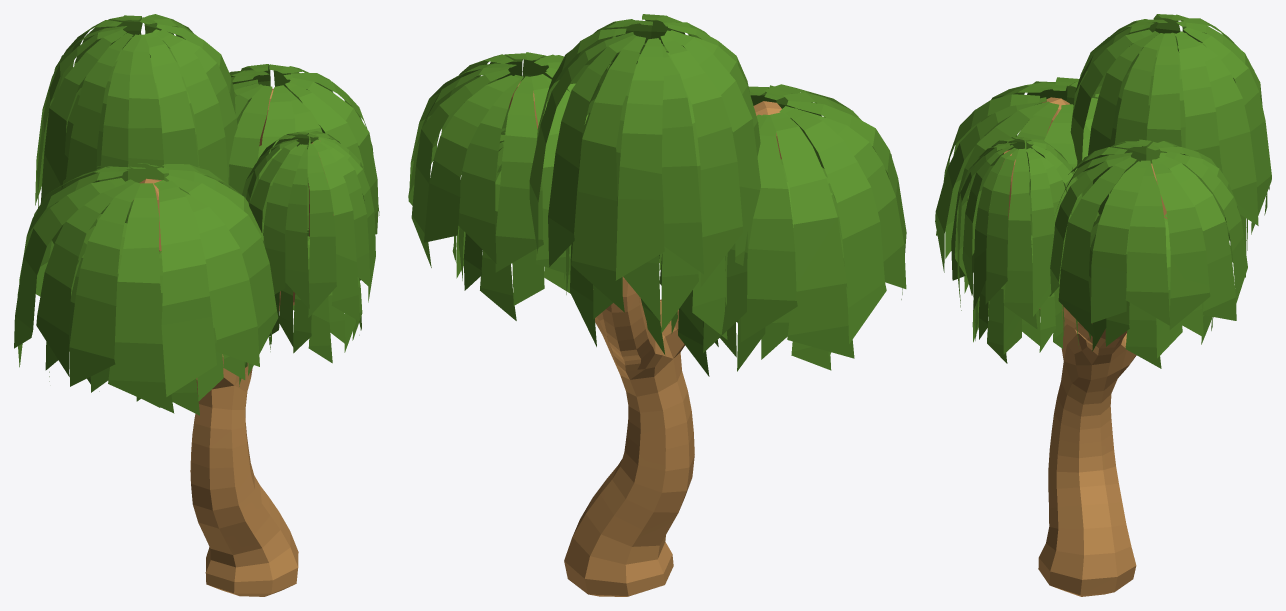
Rendered from besar1.fbx.
3 renders of one model, left to right at view 1: azimuth 30°, elevation 25°; view 2: azimuth 150°, elevation 25°; view 3: azimuth 270°, elevation 25°, orthographic. The views are drawn at different scales.
Visible parts, largest first — view 1: Object_12, Object_11; view 2: Object_12, Object_11; view 3: Object_12, Object_11.
Part boxes in pixels (x1=…): Object_12: x1=14, y1=14, x2=379, y2=415; Object_11: x1=133, y1=88, x2=333, y2=596; Object_12: x1=408, y1=14, x2=906, y2=376; Object_11: x1=509, y1=81, x2=781, y2=596; Object_12: x1=935, y1=14, x2=1271, y2=368; Object_11: x1=1000, y1=97, x2=1167, y2=596.
Bounding box in the file's own units: 186 × 260 × 150.
